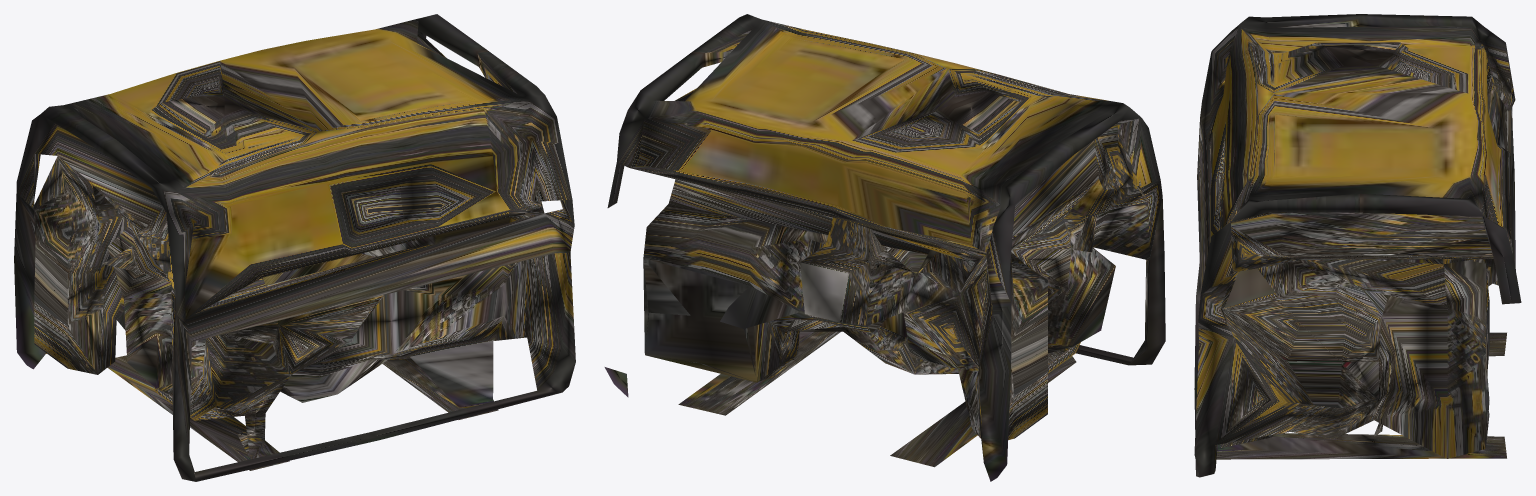
File: generator-portable.lite.cba013eb.glb
3 views of the same model, side by side, from view 1: azimuth 30°, elevation 25°; view 2: azimuth 150°, elevation 25°; view 3: azimuth 270°, elevation 25° (orthographic).
Visible parts, largest first — view 1: model; view 2: model; view 3: model.
Part boxes in pixels (<box>): model: <box>14,14,575,481</box>; model: <box>604,14,1165,481</box>; model: <box>1194,14,1521,477</box>.
Size of the model in its own units: 0.8009 by 0.574 by 0.5556.
2 materials, 2 textured.
